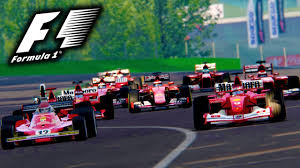FormulaOneCar: (1, 84, 100, 150), (191, 73, 290, 129), (126, 71, 194, 111), (241, 60, 300, 98), (181, 59, 231, 92)
